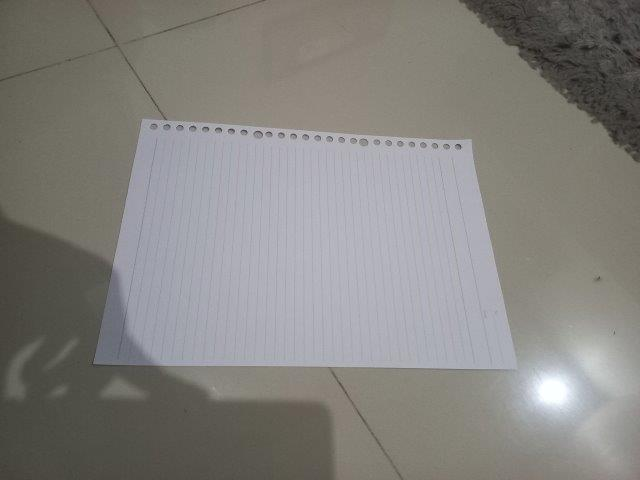kertas: (94, 119, 516, 368)
